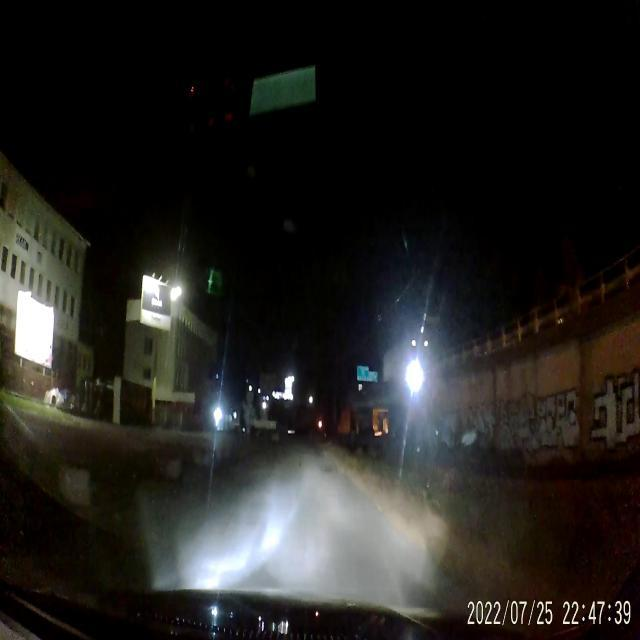Pothole: (315, 458, 339, 478)
